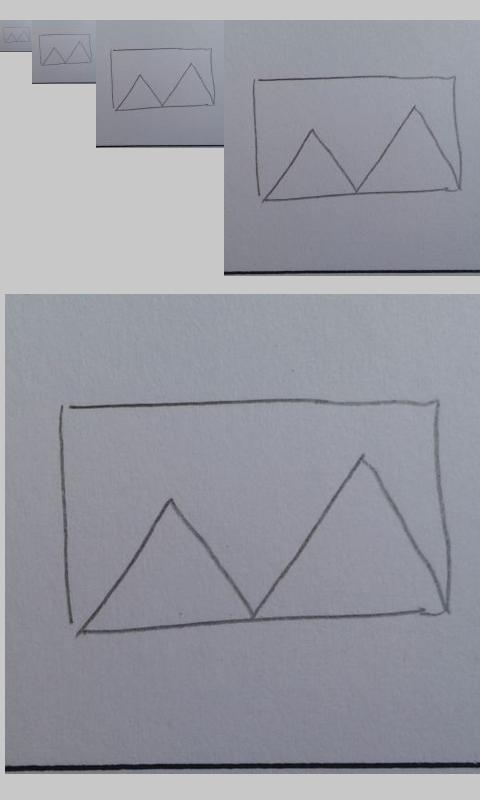image_view: (56, 397, 458, 635), (250, 74, 465, 203), (109, 46, 216, 111), (38, 33, 95, 67), (2, 26, 32, 44)
